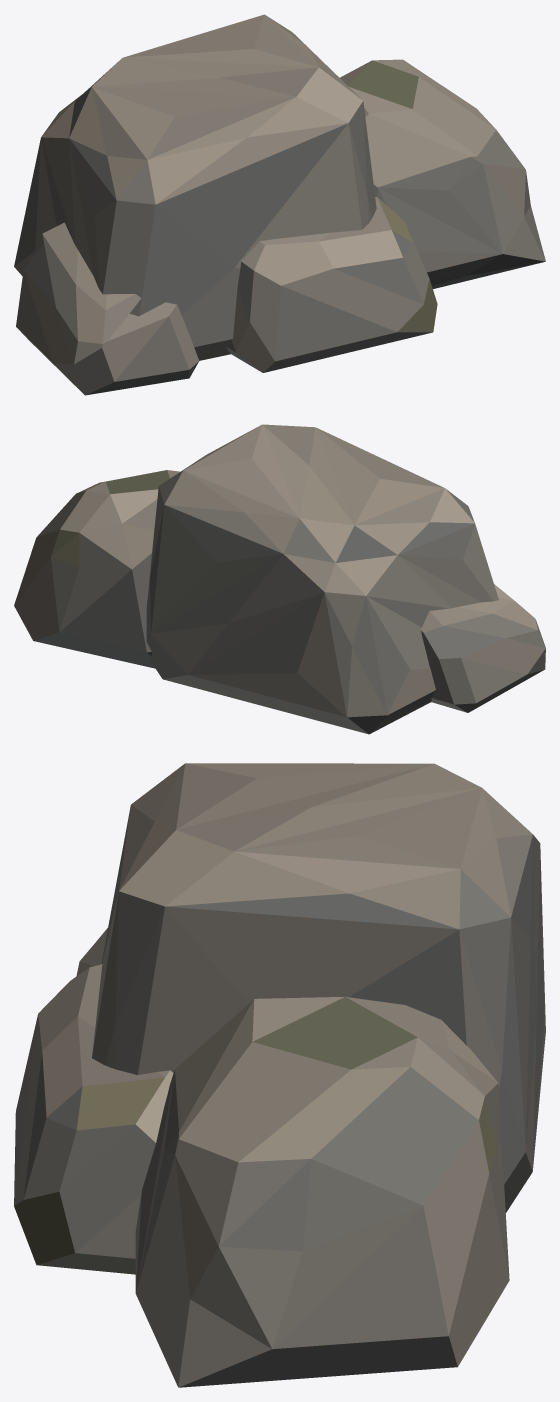
File: verdant-cliff-toe.glb
3 renders of one model, top to bottom at view 1: azimuth 30°, elevation 25°; view 2: azimuth 150°, elevation 25°; view 3: azimuth 270°, elevation 25°, orthographic. The views are drawn at different scales.
Visible parts, largest first — view 1: verdant-cliff-toe; view 2: verdant-cliff-toe; view 3: verdant-cliff-toe.
Boxes of the visible parts, box(x1,y1,x2,y2) form: verdant-cliff-toe: box(14, 14, 545, 395); verdant-cliff-toe: box(14, 424, 545, 734); verdant-cliff-toe: box(14, 763, 545, 1387).
Bounding box in the file's own units: 3.11 × 1.37 × 1.78.
1 material, 1 textured.
